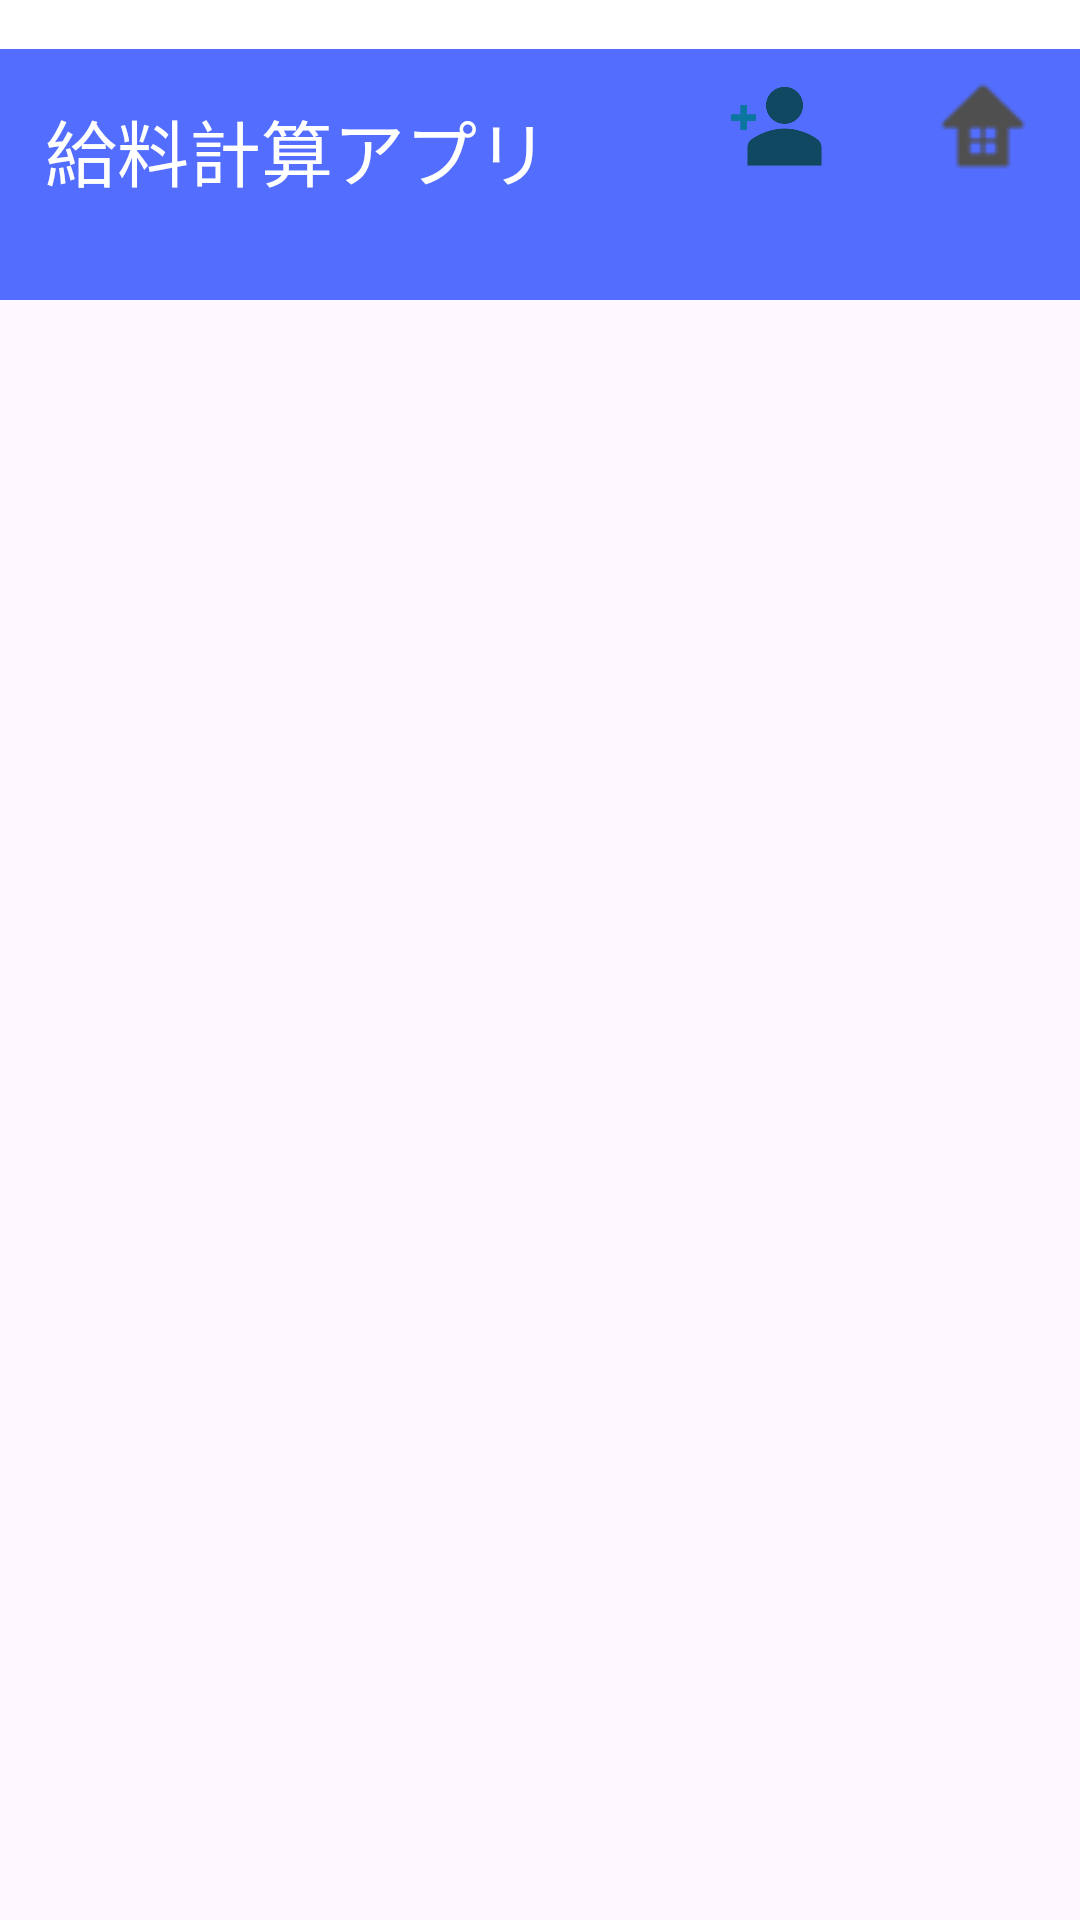

Icons on this 1080 x 1920 Android screen, each with its box as (x1, y1, x2, y2):
home: (941, 84, 1025, 169)
user: (731, 87, 822, 166)
